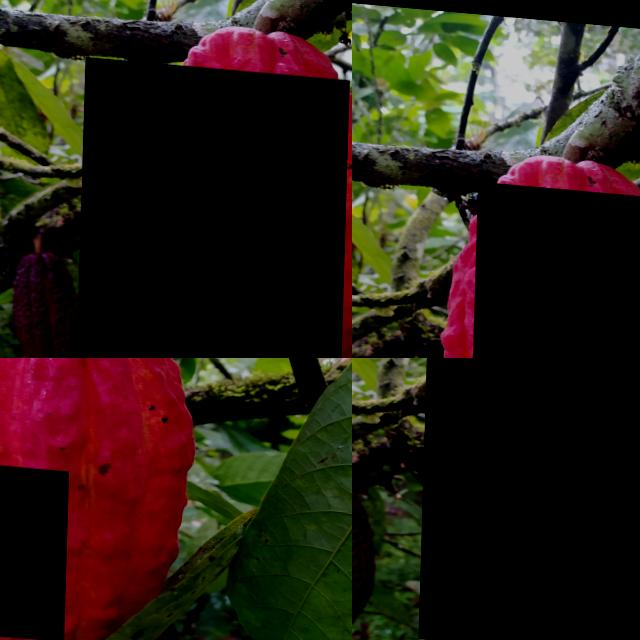Monilia: (0, 457, 71, 635), (118, 402, 171, 513)
Sana: (77, 54, 350, 358), (421, 358, 640, 640), (470, 177, 640, 358), (352, 484, 381, 624)
